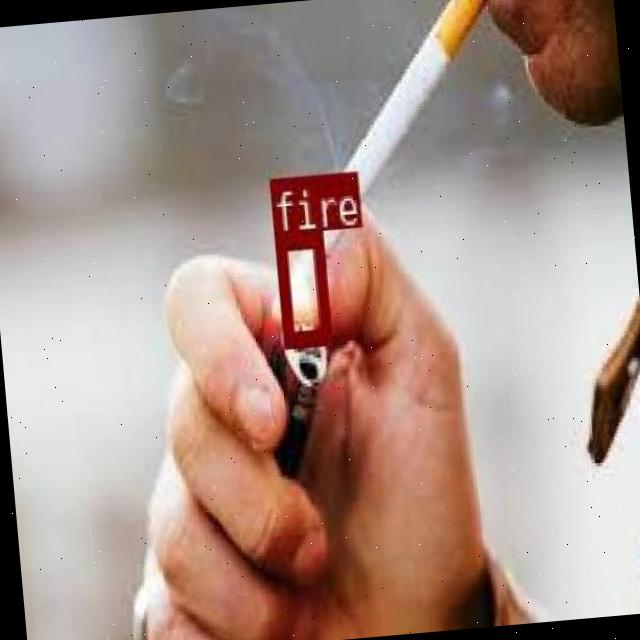fire: (274, 230, 328, 342)
